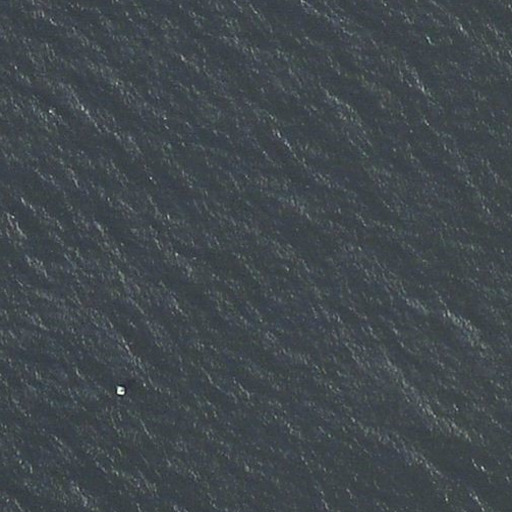ship: (112, 383, 129, 399)
